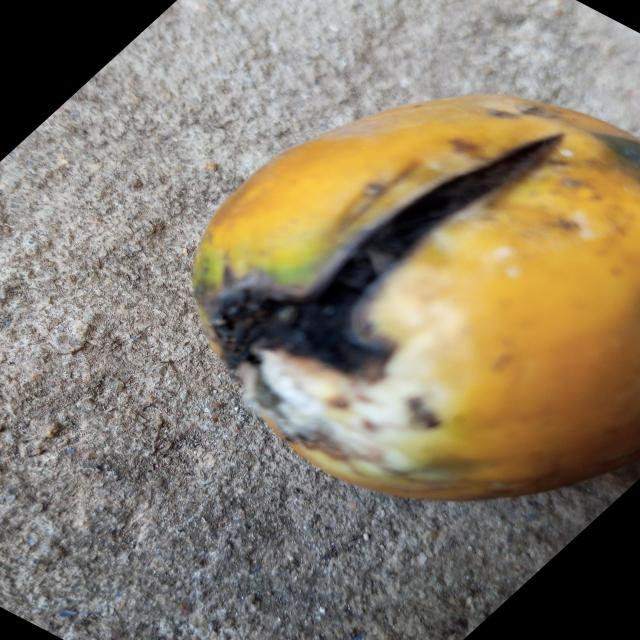damaged: (192, 94, 640, 504)
